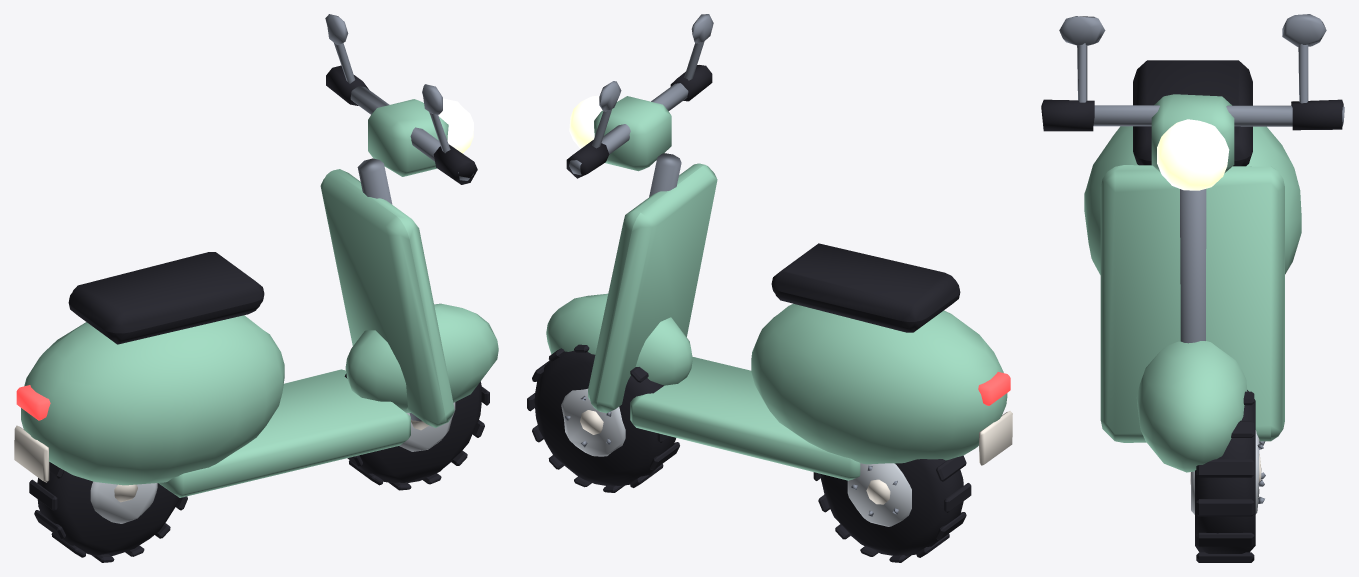
File: scooter.glb
3 views of the same model, side by side, from view 1: azimuth 30°, elevation 25°; view 2: azimuth 150°, elevation 25°; view 3: azimuth 270°, elevation 25° (orthographic). The views are drawn at different scales.
Parts seen in each view (by area): view 1: scooter; view 2: scooter; view 3: scooter.
Part boxes in pixels (x1,y1,x2,y2): scooter: (14,14,498,562); scooter: (527,14,1012,562); scooter: (1041,14,1344,562).
Bounding box in the file's own units: 1.36 × 1.24 × 0.6587.
1 material, 1 textured.
